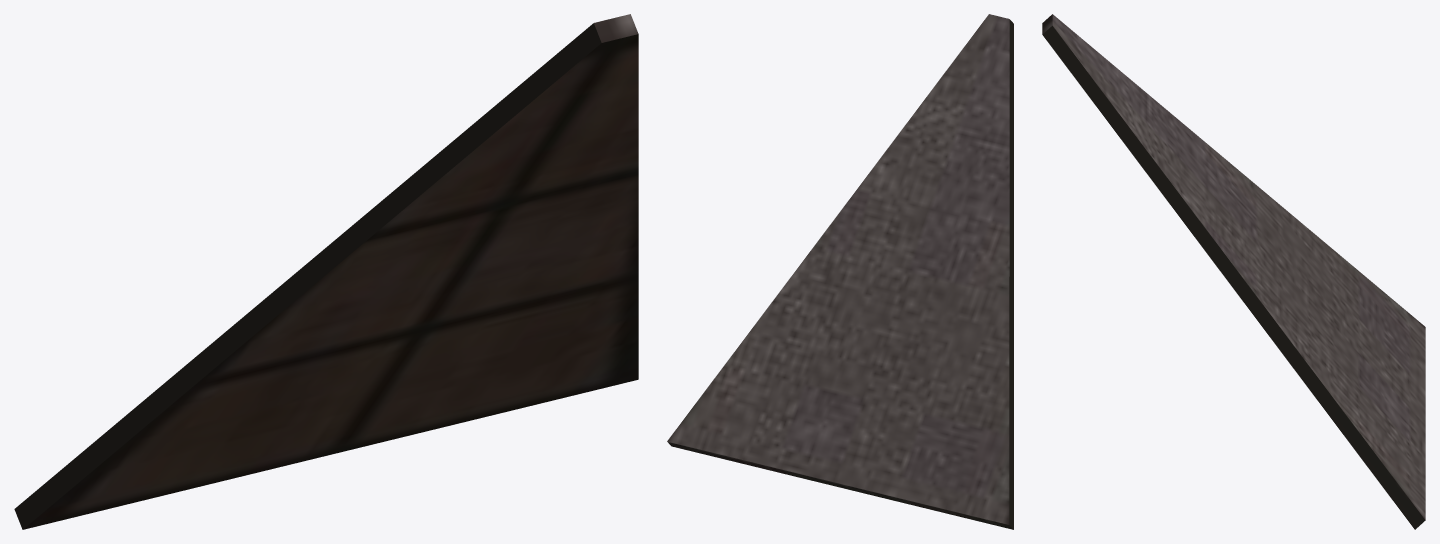
The model's file is stone_roof_triangle_textured.glb.
3 views of the same model, side by side, from view 1: azimuth 30°, elevation 25°; view 2: azimuth 150°, elevation 25°; view 3: azimuth 270°, elevation 25° (orthographic). The views are drawn at different scales.
Visible parts, largest first — view 1: Plane; view 2: Plane; view 3: Plane.
Boxes of the visible parts, bbox=[...] form: Plane: bbox=[14, 14, 638, 529]; Plane: bbox=[667, 14, 1013, 529]; Plane: bbox=[1042, 14, 1425, 529].
Size of the model in its own units: 2.08 by 2.08 by 1.74.
Materials: 1 (1 with a texture image).
